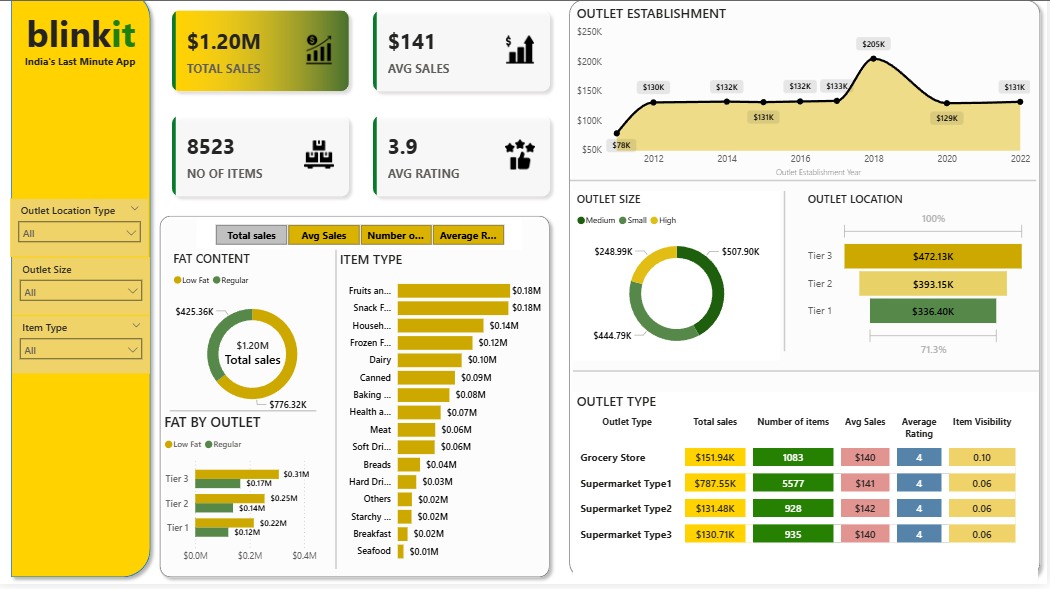

Layout of this report page (visuals, bound fields, positions):
{"tool":"powerbi","page":{"name":"Page 1","canvas":[1400,800],"ordinal":0},"visuals":[{"type":"shape","box":[10.9,0,203.6,800],"z":0},{"type":"textbox","box":[28,26,168,84],"z":1000},{"type":"textbox","box":[27.3,87.3,165.5,43.6],"z":2000},{"type":"cardVisual","fields":{"Data":["BlinkIT Grocery Data.Total sales","BlinkIT Grocery Data.Avg Sales","BlinkIT Grocery Data.Number of items","BlinkIT Grocery Data.Average Rating"]},"box":[216,18,538,282],"z":3000},{"type":"shape","box":[208,300,538,500],"z":4000},{"type":"donutChart","title":"FAT CONTENT","fields":{"Y":["BlinkIT Grocery Data.Total sales"],"Category":["BlinkIT Grocery Data.Item Fat Content"]},"box":[230,354,220,230],"z":5000},{"type":"slicer","fields":{"Values":["Metrics.Metrics"]},"box":[266,314,434,40],"z":6000},{"type":"cardVisual","fields":{"Data":["BlinkIT Grocery Data.Total sales"]},"box":[282,454,118,70],"z":7000},{"type":"clusteredBarChart","title":"FAT BY OUTLET","fields":{"Y":["BlinkIT Grocery Data.Total sales"],"Category":["BlinkIT Grocery Data.Outlet Location Type"],"Series":["BlinkIT Grocery Data.Item Fat Content"]},"box":[218,570,220,210],"z":8000},{"type":"shape","box":[230,554,196,30],"z":9000},{"type":"shape","box":[426,354,52,426],"z":10000},{"type":"barChart","title":"ITEM TYPE","fields":{"Y":["BlinkIT Grocery Data.Total sales"],"Category":["BlinkIT Grocery Data.Item Type"]},"box":[452,354,278,426],"z":11000},{"type":"shape","box":[754,12,646,788],"z":12000},{"type":"lineChart","title":"OUTLET ESTABLISHMENT","fields":{"Category":["BlinkIT Grocery Data.Outlet Establishment Year"],"Y":["BlinkIT Grocery Data.Total sales"]},"box":[768,26,614,236],"z":13000},{"type":"shape","box":[764,200,622,124],"z":14000},{"type":"donutChart","title":"OUTLET SIZE","fields":{"Y":["BlinkIT Grocery Data.Total sales"],"Category":["BlinkIT Grocery Data.Outlet Size"]},"box":[768,276,276,226],"z":15000},{"type":"shape","box":[1024,276,52,214],"z":16000},{"type":"funnel","title":"OUTLET LOCATION","fields":{"Y":["BlinkIT Grocery Data.Total sales"],"Category":["BlinkIT Grocery Data.Outlet Location Type"]},"box":[1076,276,300,226],"z":17000},{"type":"shape","box":[768,454,622,124],"z":18000},{"type":"pivotTable","title":"OUTLET TYPE","fields":{"Rows":["BlinkIT Grocery Data.Outlet Type"],"Values":["BlinkIT Grocery Data.Total sales","BlinkIT Grocery Data.Number of items","BlinkIT Grocery Data.Avg Sales","BlinkIT Grocery Data.Average Rating","Avg(BlinkIT Grocery Data.Item Visibility)"]},"box":[768,544,620,256],"z":19000},{"type":"slicer","fields":{"Values":["BlinkIT Grocery Data.Outlet Location Type"]},"box":[18,286,184,78],"z":19001},{"type":"slicer","fields":{"Values":["BlinkIT Grocery Data.Outlet Size"]},"box":[20,364,184,78],"z":19002},{"type":"slicer","fields":{"Values":["BlinkIT Grocery Data.Item Type"]},"box":[20,442,184,78],"z":19003}]}

Visuals, with their boxes in screenshot pixels (x1, y1, x2, y2), scaled from the page's 1400x800 canvas onto the 1050x589 screenshot:
shape: x1=8 y1=0 x2=161 y2=588
textbox: x1=21 y1=19 x2=147 y2=81
textbox: x1=20 y1=64 x2=145 y2=96
cardVisual - BlinkIT Grocery Data.Total sales x BlinkIT Grocery Data.Avg Sales: x1=162 y1=13 x2=566 y2=221
shape: x1=156 y1=221 x2=560 y2=588
"FAT CONTENT" donutChart: x1=172 y1=261 x2=338 y2=430
slicer - Metrics.Metrics: x1=200 y1=231 x2=525 y2=261
cardVisual - BlinkIT Grocery Data.Total sales: x1=212 y1=334 x2=300 y2=386
"FAT BY OUTLET" clusteredBarChart: x1=164 y1=420 x2=328 y2=574
shape: x1=172 y1=408 x2=320 y2=430
shape: x1=320 y1=261 x2=358 y2=574
"ITEM TYPE" barChart: x1=339 y1=261 x2=548 y2=574
shape: x1=566 y1=9 x2=1049 y2=588
"OUTLET ESTABLISHMENT" lineChart: x1=576 y1=19 x2=1036 y2=193
shape: x1=573 y1=147 x2=1040 y2=239
"OUTLET SIZE" donutChart: x1=576 y1=203 x2=783 y2=370
shape: x1=768 y1=203 x2=807 y2=361
"OUTLET LOCATION" funnel: x1=807 y1=203 x2=1032 y2=370
shape: x1=576 y1=334 x2=1042 y2=426
"OUTLET TYPE" pivotTable: x1=576 y1=401 x2=1041 y2=588
slicer - BlinkIT Grocery Data.Outlet Location Type: x1=14 y1=211 x2=152 y2=268
slicer - BlinkIT Grocery Data.Outlet Size: x1=15 y1=268 x2=153 y2=325
slicer - BlinkIT Grocery Data.Item Type: x1=15 y1=325 x2=153 y2=383
